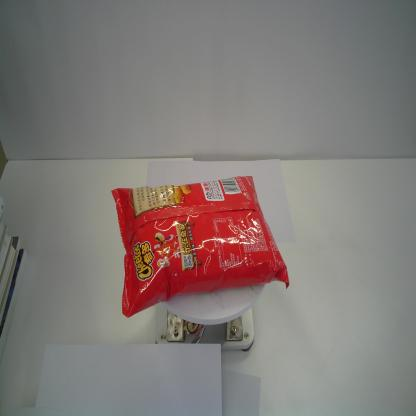Puffed Food: (108, 171, 290, 320)
